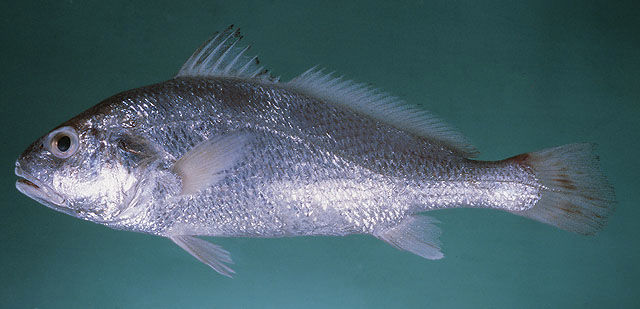fish: (14, 24, 620, 280)
